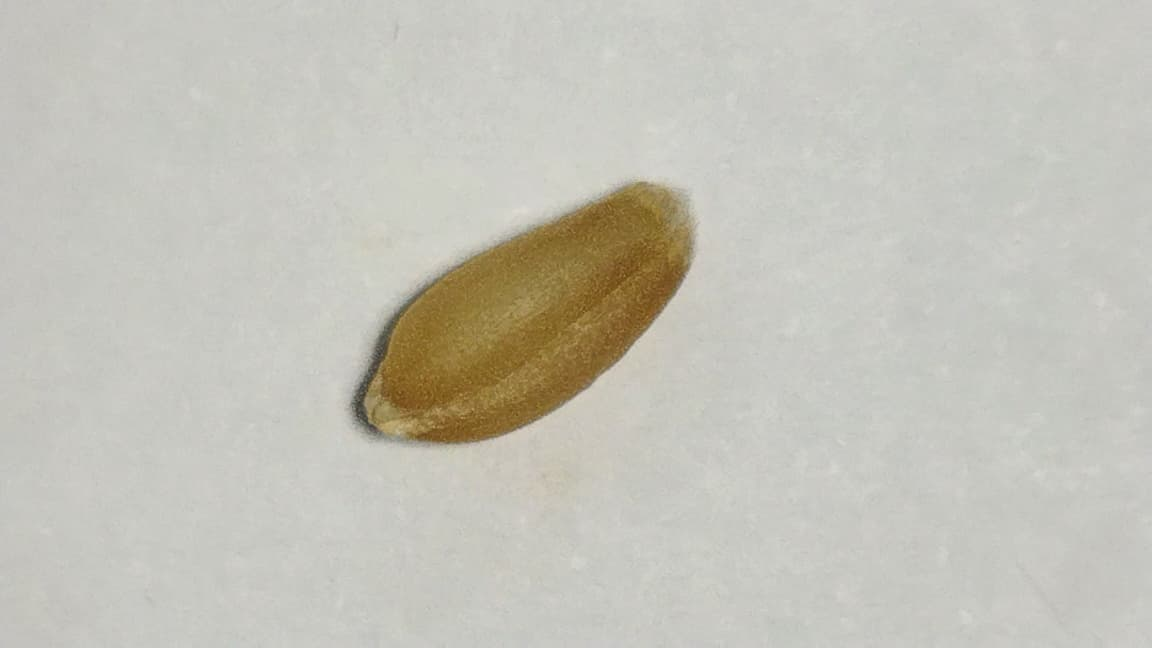healthy: (363, 183, 692, 442)
